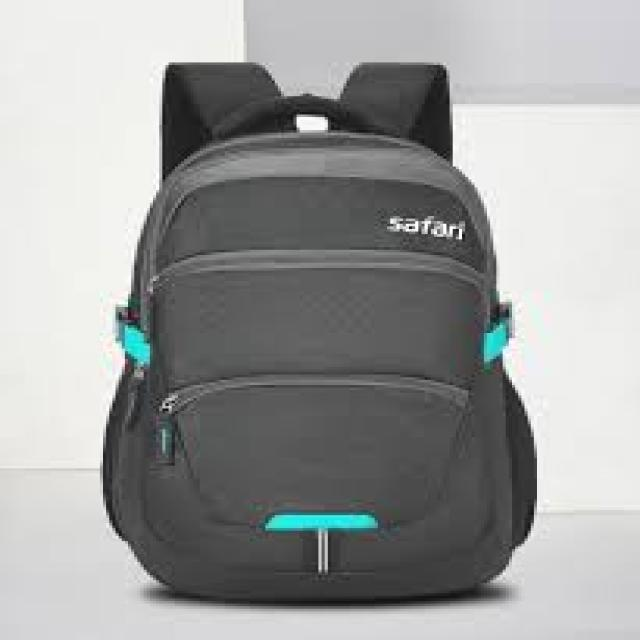backpack: (101, 61, 538, 605)
